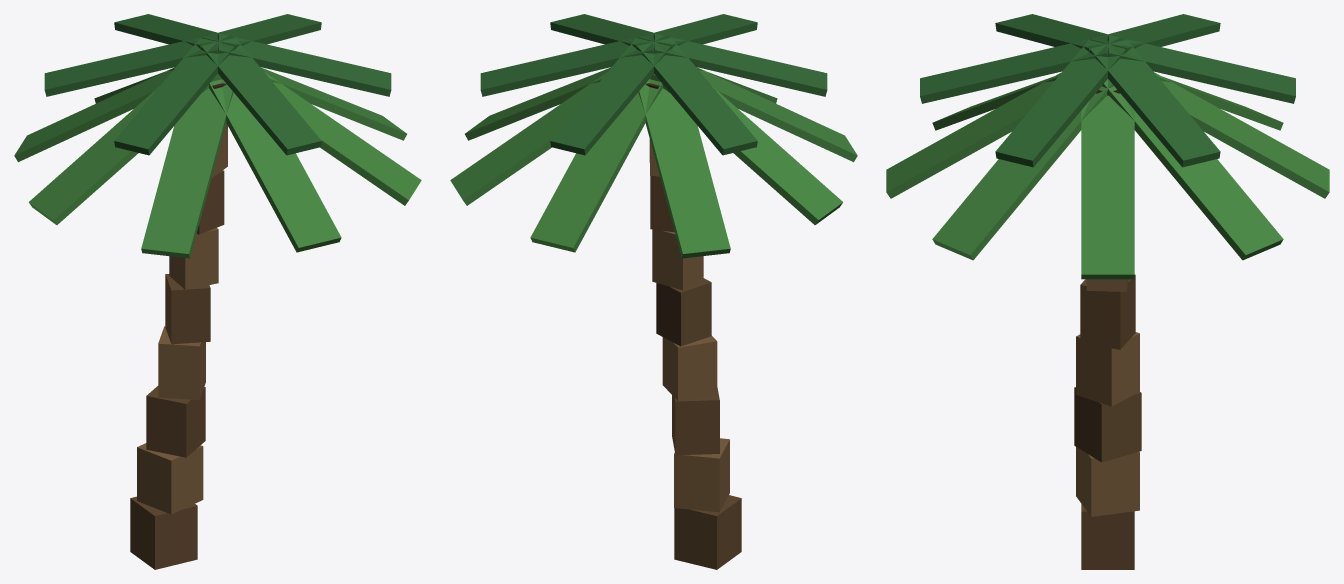
File: dd_palm.glb
The picture shows the model from 3 angles, left to right: view 1: azimuth 30°, elevation 25°; view 2: azimuth 150°, elevation 25°; view 3: azimuth 270°, elevation 25°; orthographic projection. The views are drawn at different scales.
Visible parts, largest first — view 1: DUBG_dd_palm; view 2: DUBG_dd_palm; view 3: DUBG_dd_palm.
Boxes of the visible parts, box(x1,y1,x2,y2) form: DUBG_dd_palm: box(14, 14, 421, 569); DUBG_dd_palm: box(450, 14, 857, 569); DUBG_dd_palm: box(886, 14, 1329, 569).
Size of the model in its own units: 9.63 by 13.02 by 9.63.
